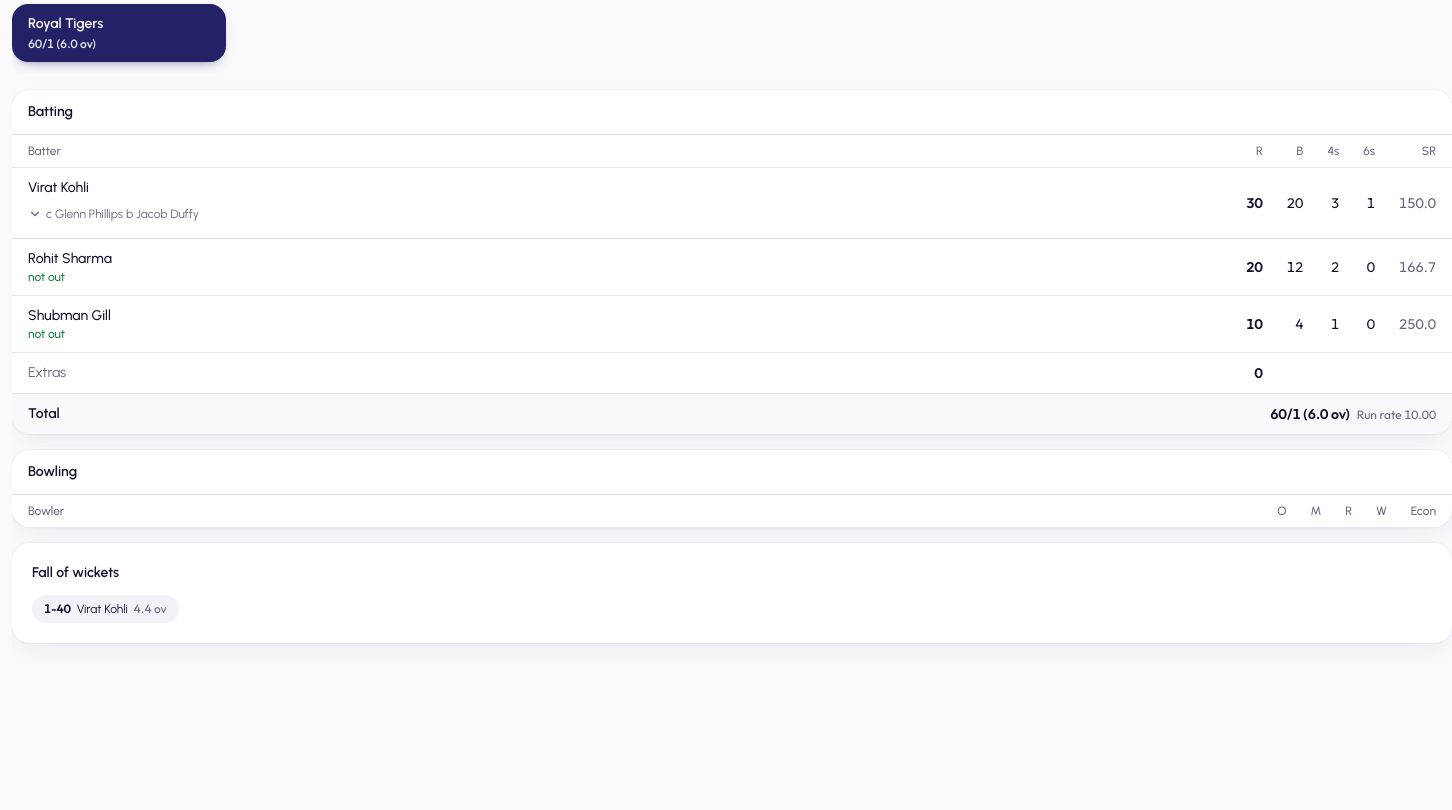
Test: MatchScorecard › opens how a wicket fell under the batter, and closes it again
The width and height of the screenshot is (1452, 810).
Click the button "c Glenn Phillips b Jacob Duffy" at (114, 214), box [22,200,205,228]
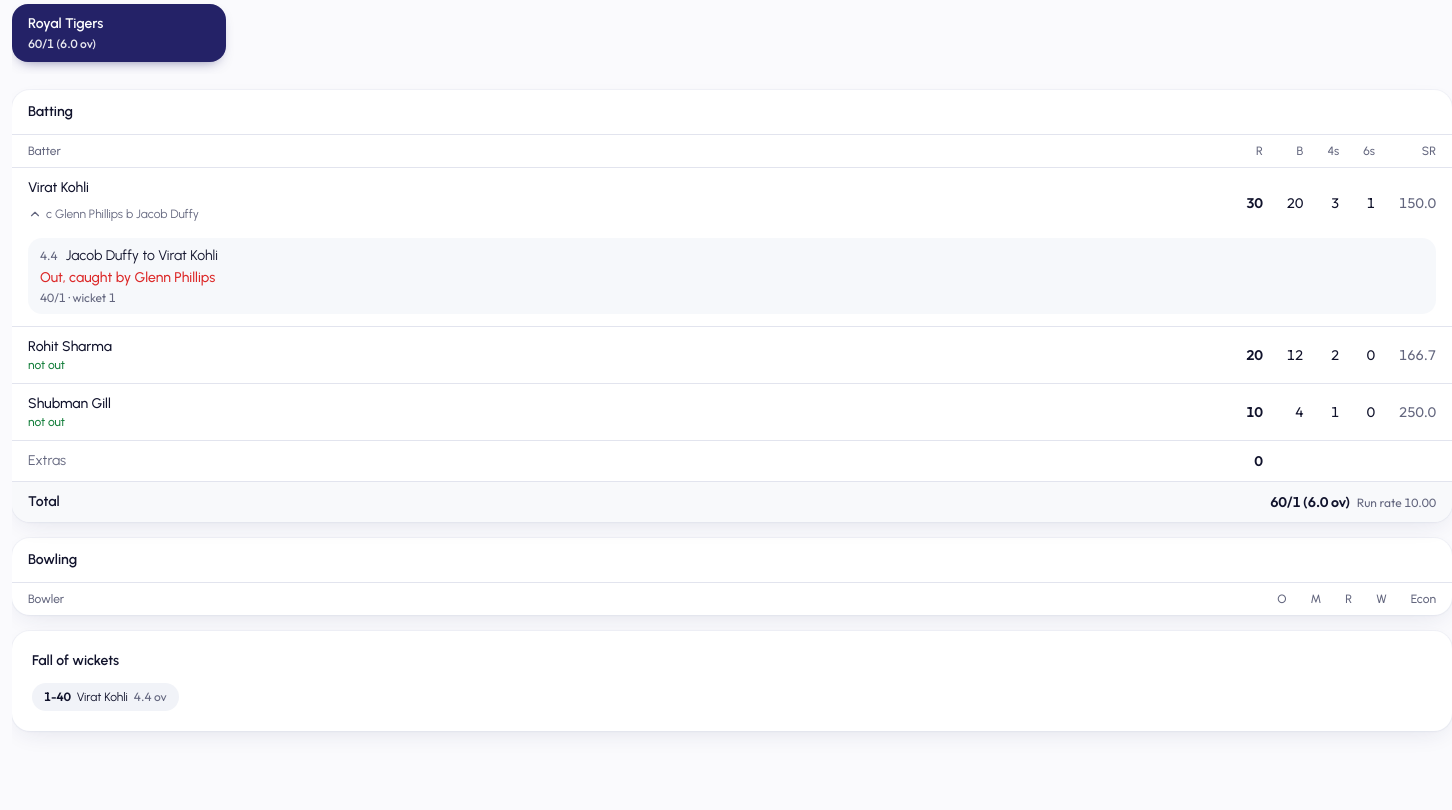
Expected: the button "c Glenn Phillips b Jacob Duffy" is expanded
Click the button "c Glenn Phillips b Jacob Duffy" at (114, 214), box [22,200,205,228]
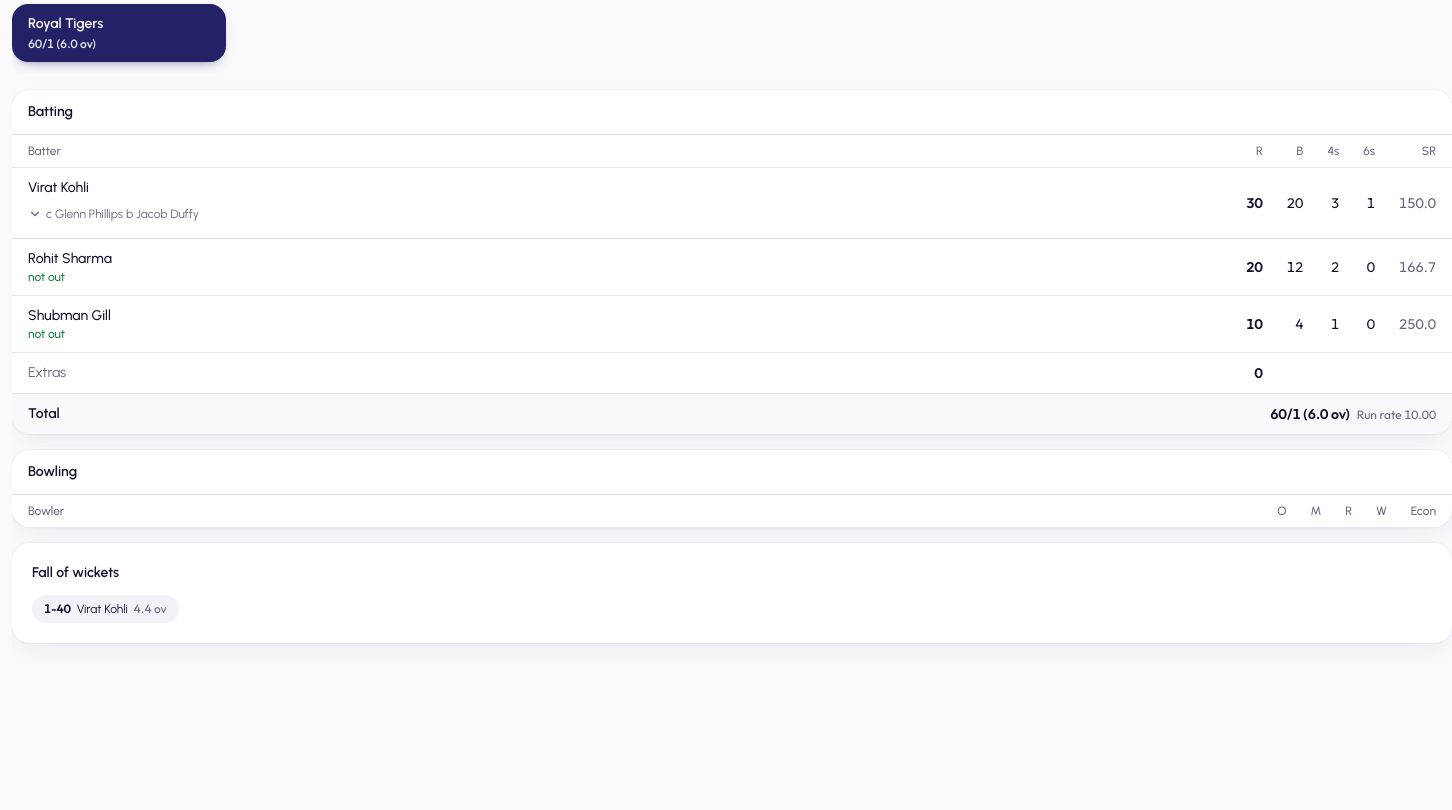
Expected: the number of buttons "c Glenn Phillips b Jacob Duffy" is 1, [22,200,205,228]
Expected: the button "c Glenn Phillips b Jacob Duffy" is collapsed, [22,200,205,228]
